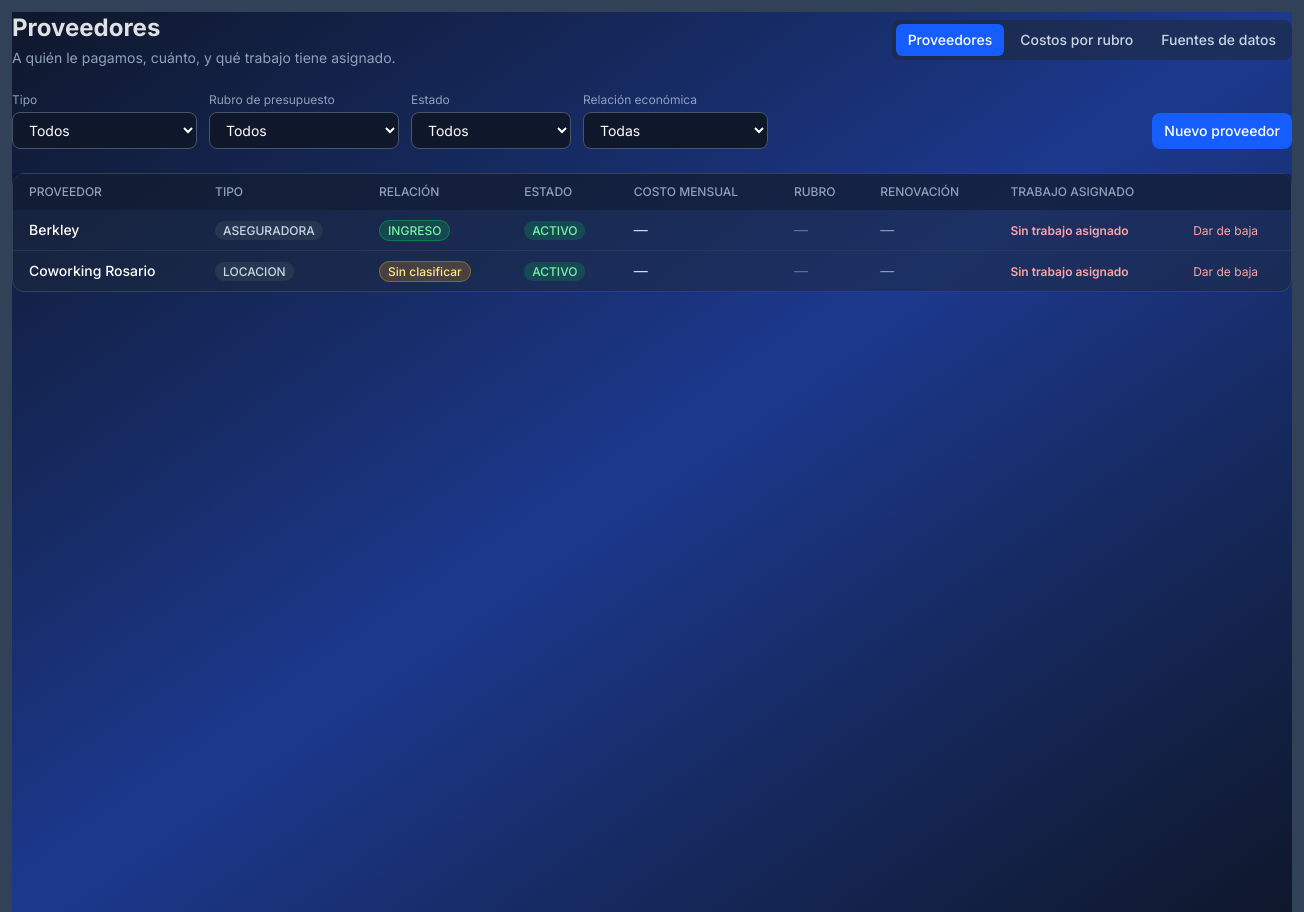
Test case: el filtro por relación económica › "Sin clasificar" ES un filtro: deja los que están en NULL
Expected: the button "Berkley" is shown, x1=29 y1=220 x2=79 y2=240
Select "Sin clasificar" in the dropdown labelled "Relación económica" at (676, 130), box x1=583 y1=112 x2=768 y2=149
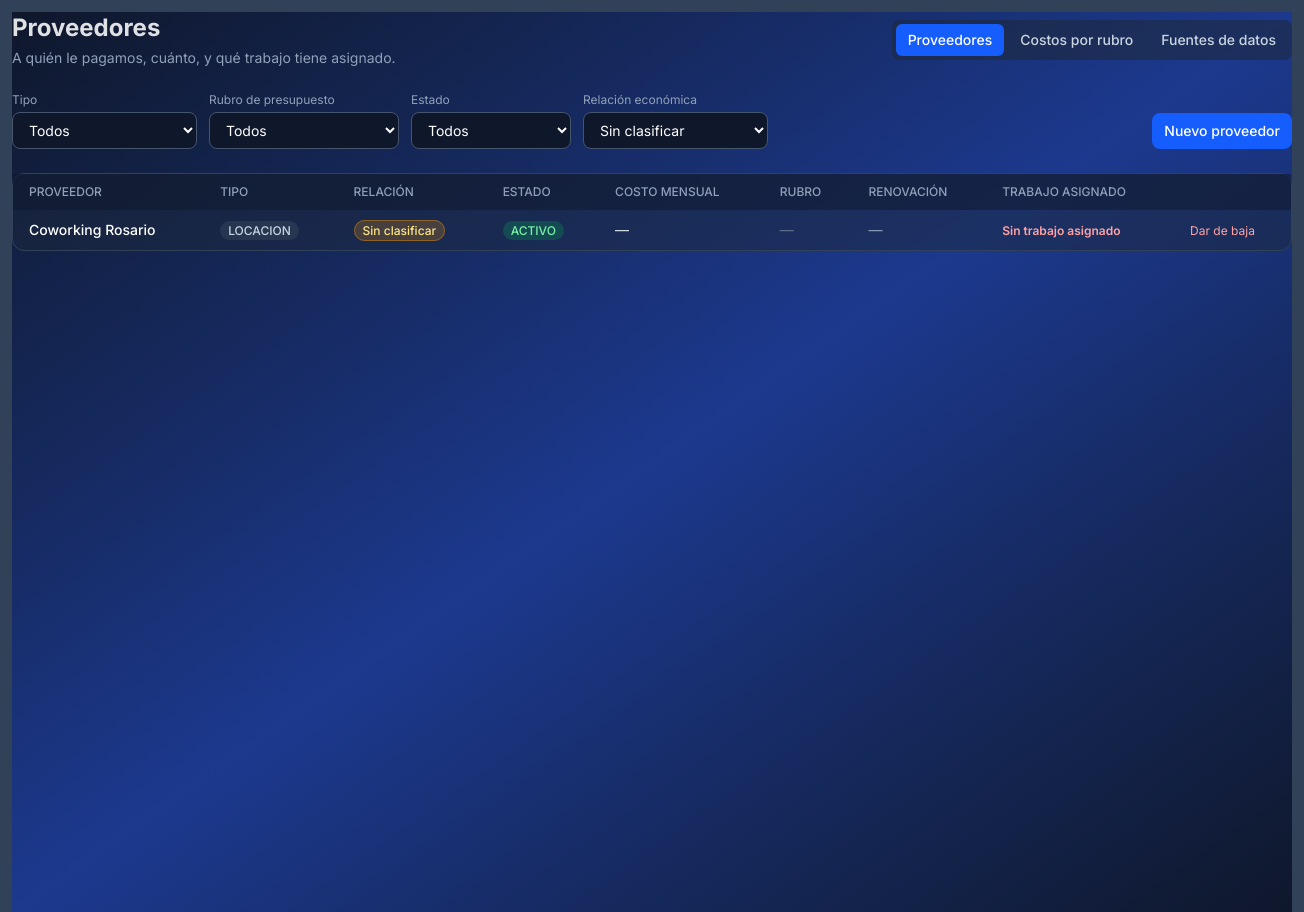
Expected: the button "Coworking Rosario" is shown, x1=29 y1=220 x2=156 y2=240
Now the button "Berkley" is gone
